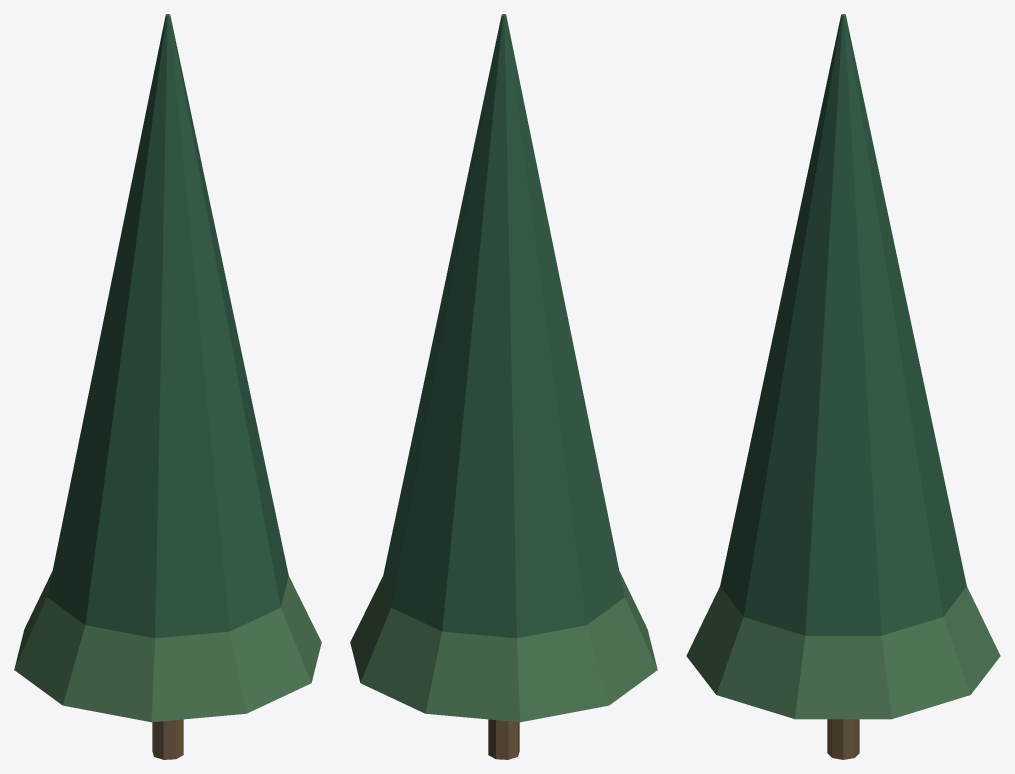
The model's file is norway-spruce-narrow_lod0.glb.
The picture shows the model from 3 angles, left to right: view 1: azimuth 30°, elevation 25°; view 2: azimuth 150°, elevation 25°; view 3: azimuth 270°, elevation 25°; orthographic projection.
Parts seen in each view (by area): view 1: RF_SpruceNarrow_Crown, RF_SpruceNarrow_Lower, RF_SpruceNarrow_Trunk; view 2: RF_SpruceNarrow_Crown, RF_SpruceNarrow_Lower, RF_SpruceNarrow_Trunk; view 3: RF_SpruceNarrow_Crown, RF_SpruceNarrow_Lower, RF_SpruceNarrow_Trunk.
Part boxes in pixels (bbox=[...]): RF_SpruceNarrow_Crown: bbox=[47, 14, 288, 638]; RF_SpruceNarrow_Lower: bbox=[14, 571, 321, 722]; RF_SpruceNarrow_Trunk: bbox=[152, 719, 183, 759]; RF_SpruceNarrow_Crown: bbox=[383, 14, 624, 638]; RF_SpruceNarrow_Lower: bbox=[350, 571, 657, 722]; RF_SpruceNarrow_Trunk: bbox=[488, 719, 519, 759]; RF_SpruceNarrow_Crown: bbox=[720, 14, 966, 635]; RF_SpruceNarrow_Lower: bbox=[686, 586, 1000, 719]; RF_SpruceNarrow_Trunk: bbox=[827, 719, 859, 759].
Size of the model in its own units: 6.28 by 17.1 by 6.6.
